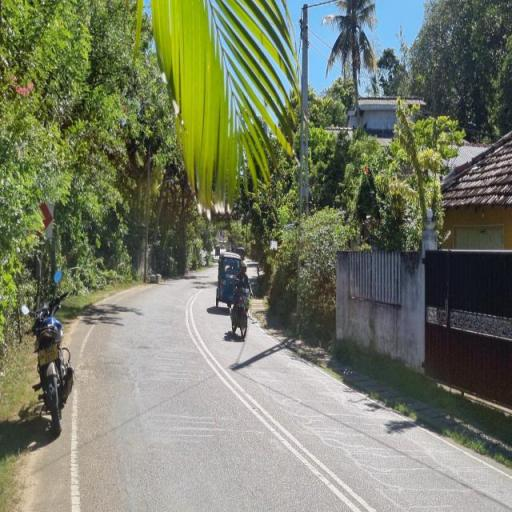double_white_line: (190, 290, 372, 511)
